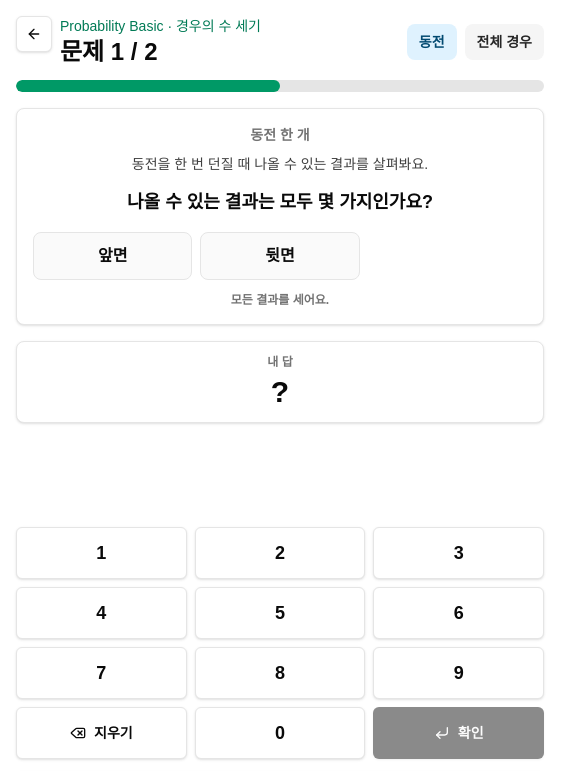
Test: ProbabilityLearning › keeps the same question active after the first wrong answer
Click the button "9" at (459, 673), box x1=373 y1=647 x2=544 y2=699
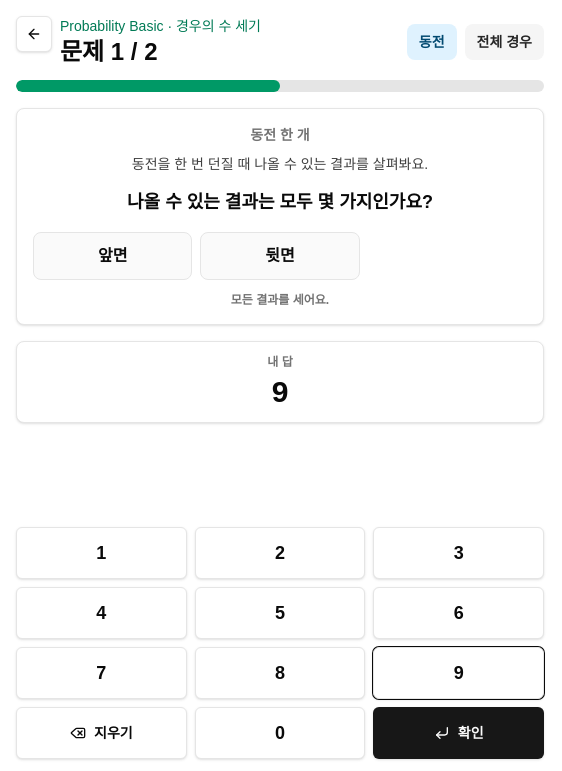
Click the button with aria-label "정답 확인" at (459, 733), box x1=373 y1=707 x2=544 y2=759
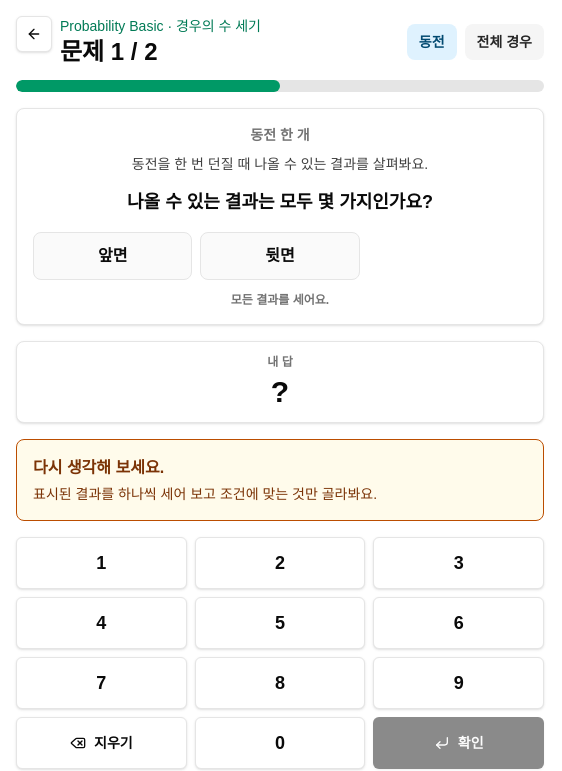
Expected: the list named "가능한 결과 앞면, 뒷면" is shown, x1=33 y1=232 x2=360 y2=280
Result: the text "다시 생각해 보세요." is shown at x1=33 y1=459 x2=164 y2=476
